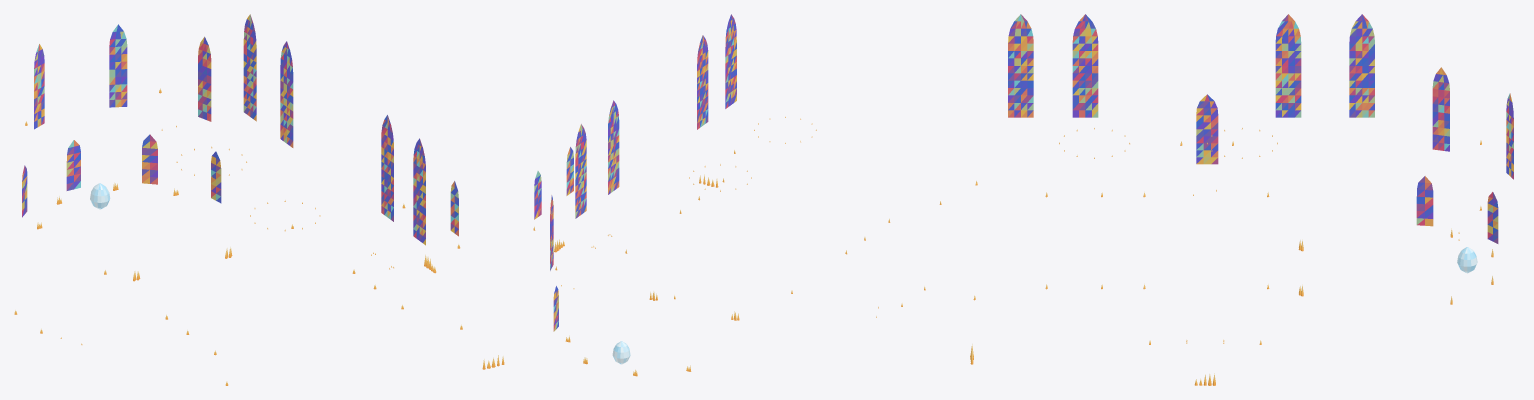
The model's file is castle_rooms_glow.glb.
3 renders of one model, left to right at view 1: azimuth 30°, elevation 25°; view 2: azimuth 150°, elevation 25°; view 3: azimuth 270°, elevation 25°, orthographic. The views are drawn at different scales.
Parts seen in each view (by area): view 1: castle_rooms_glow; view 2: castle_rooms_glow; view 3: castle_rooms_glow.
Part boxes in pixels (x1=…): castle_rooms_glow: x1=14, y1=14, x2=504, y2=385; castle_rooms_glow: x1=533, y1=14, x2=941, y2=376; castle_rooms_glow: x1=970, y1=14, x2=1513, y2=385.
Size of the model in its own units: 26 by 13.44 by 29.81.
Materials: 1 (1 with a texture image).
